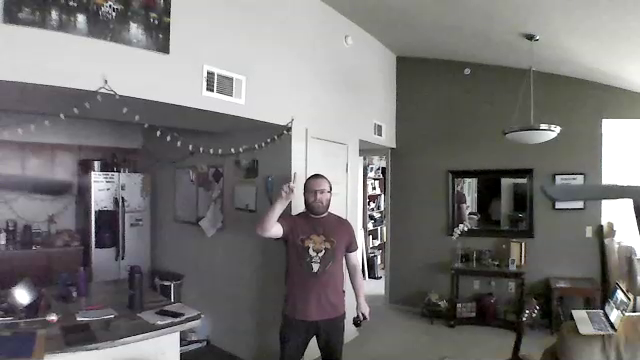up: (277, 168, 303, 207)
